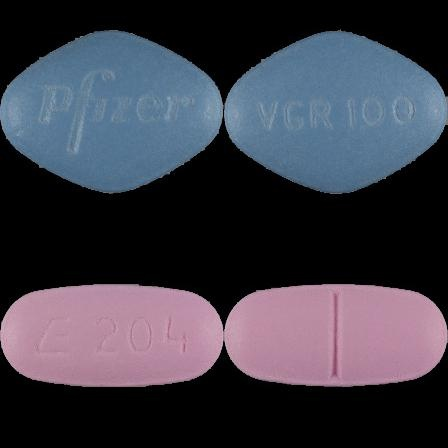63629-1792: (0, 0, 224, 224)
